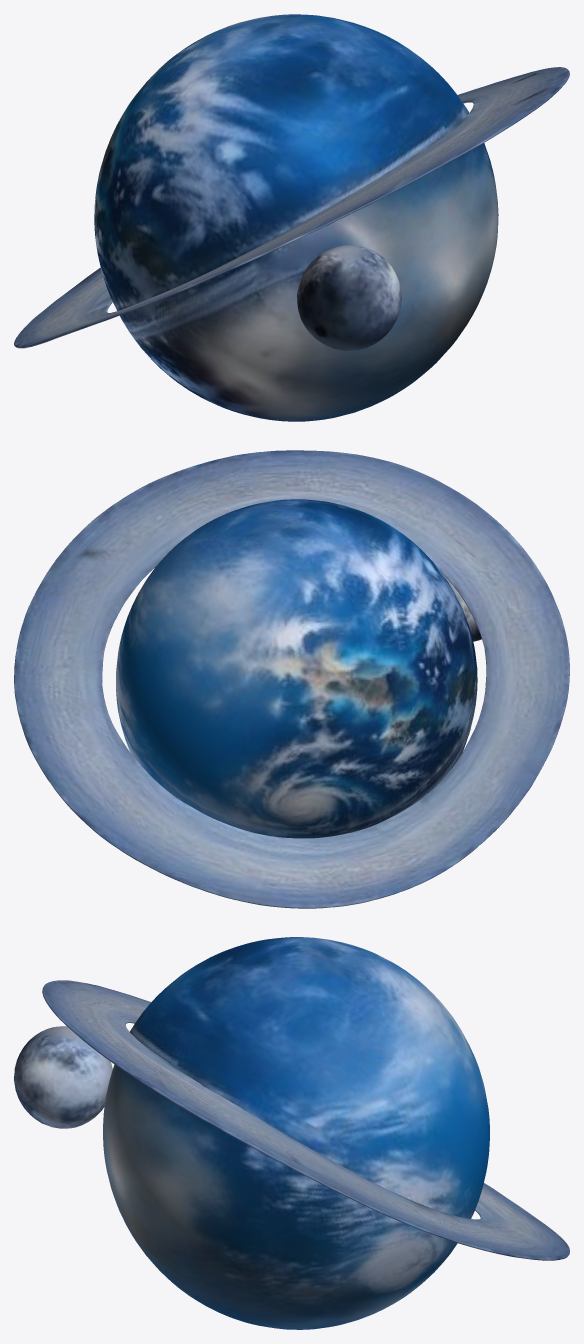
Rendered from planeta_aurora.glb.
3 views of the same model, one above another, from view 1: azimuth 30°, elevation 25°; view 2: azimuth 150°, elevation 25°; view 3: azimuth 270°, elevation 25° (orthographic). The views are drawn at different scales.
Visible parts, largest first — view 1: node_0; view 2: node_0; view 3: node_0.
Part boxes in pixels (x1,y1,x2,y2): node_0: [14, 14, 569, 421]; node_0: [14, 450, 569, 908]; node_0: [14, 937, 569, 1329].
Bounding box in the file's own units: 127 × 86.89 × 122.
Materials: 1 (1 with a texture image).
